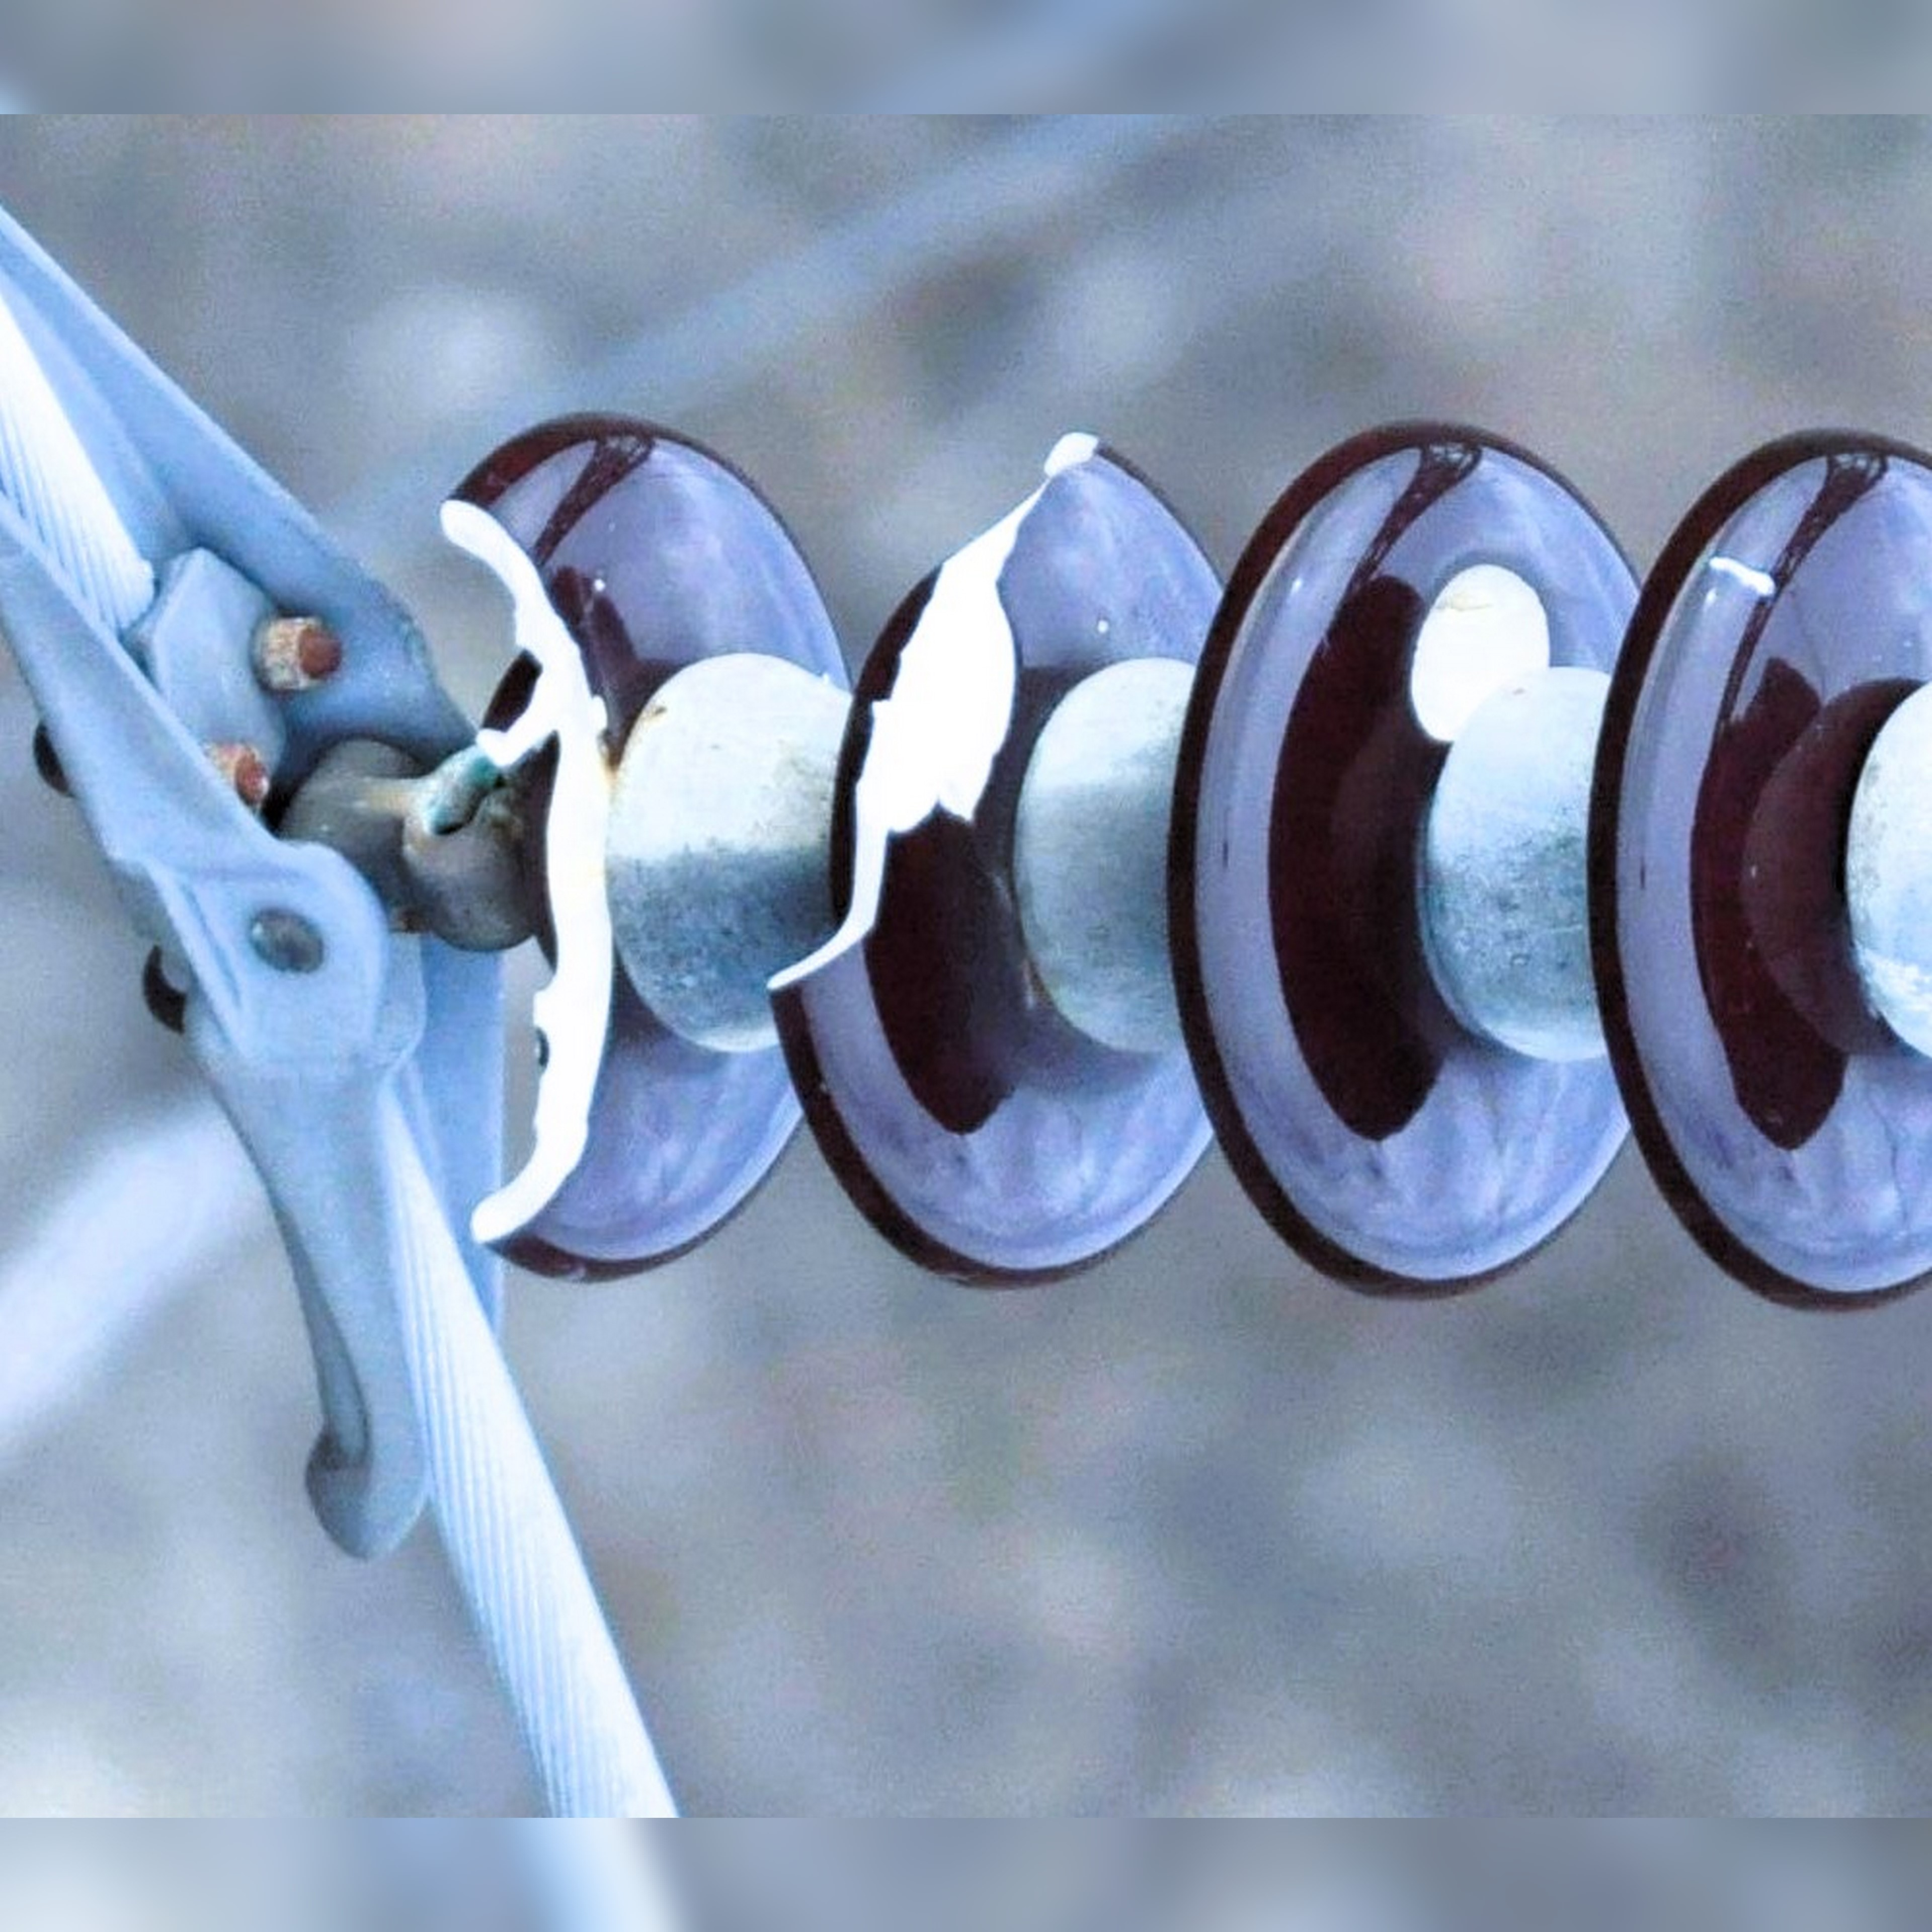insulator breakage: (396, 389, 1214, 1327)
